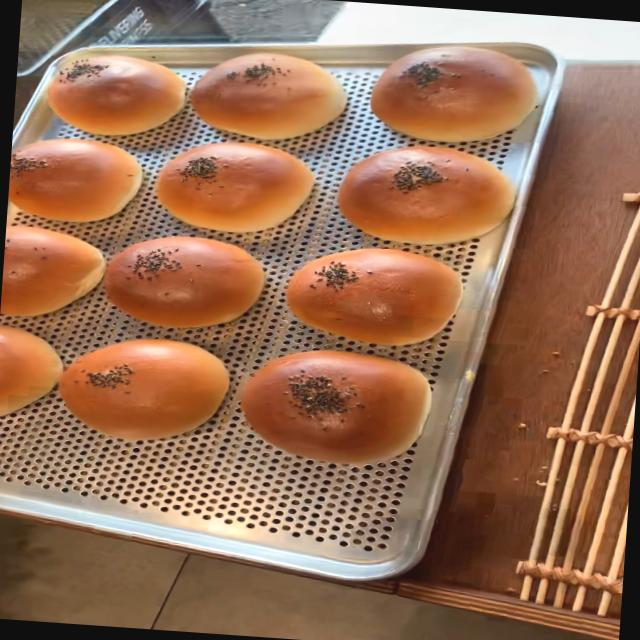bread: (235, 342, 432, 468), (52, 329, 236, 448), (332, 134, 518, 248), (282, 240, 462, 348), (368, 34, 538, 144), (146, 133, 320, 240), (100, 232, 262, 332), (7, 134, 144, 225), (0, 322, 66, 421)
